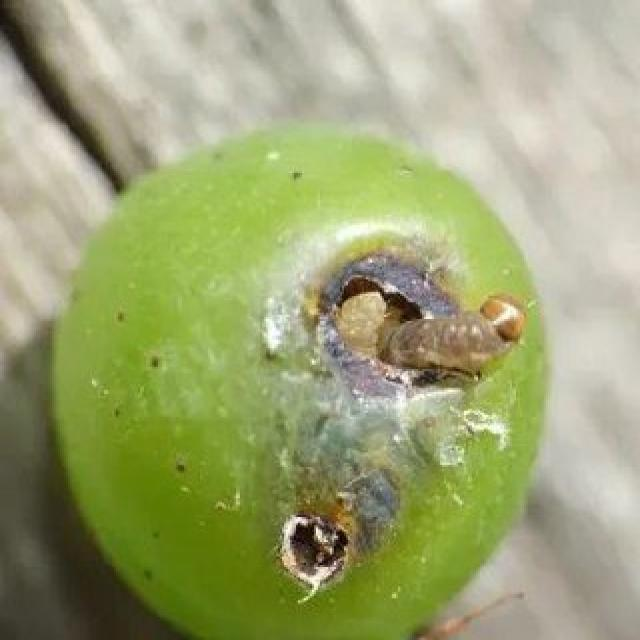Rotten Apple: (53, 128, 547, 637)
